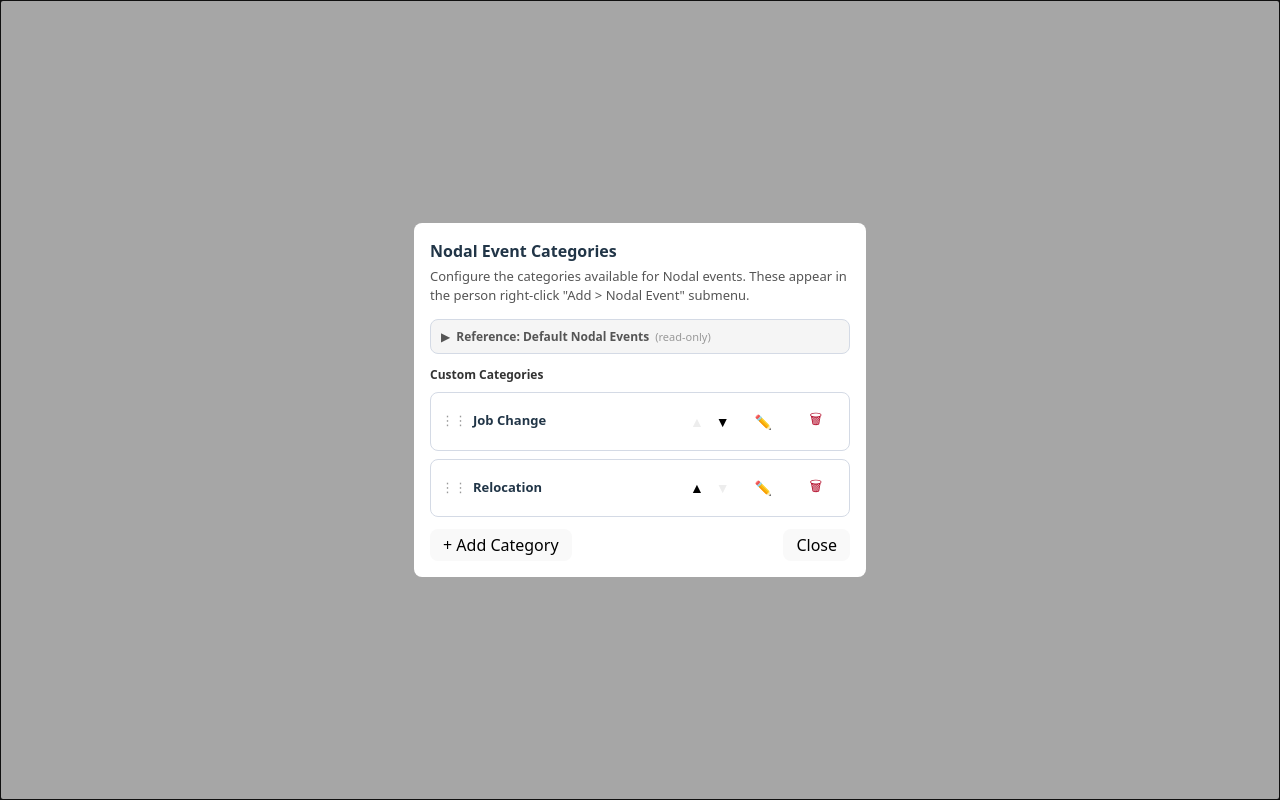
Test: NodalCategorySettingsModal — names (settings-07, settings-08) › the message clears when the name is edited
This screenshot has width=1280, height=800.
Click the button "+ Add Category" at x=501, y=545, box [430,529,572,561]
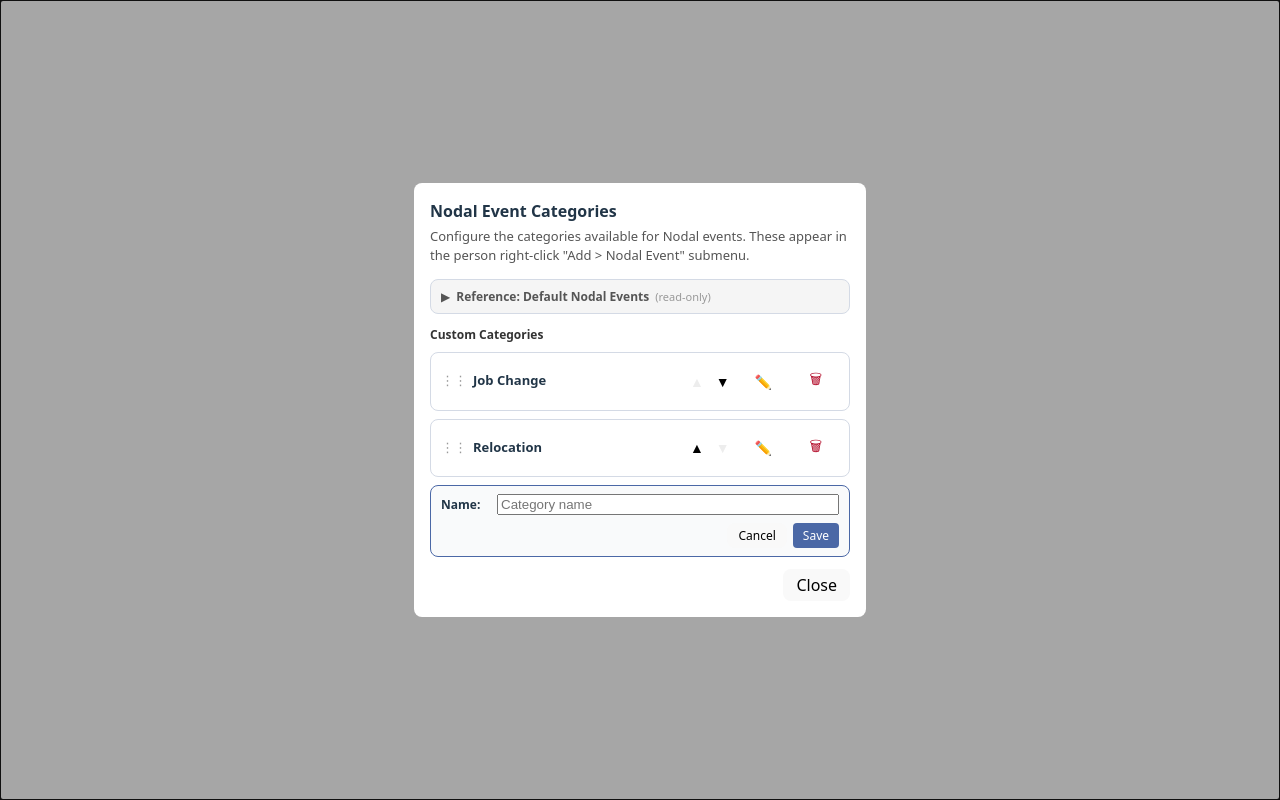
Type "Stress" into the field labelled "Category name" at x=668, y=505, box [497,494,839,515]
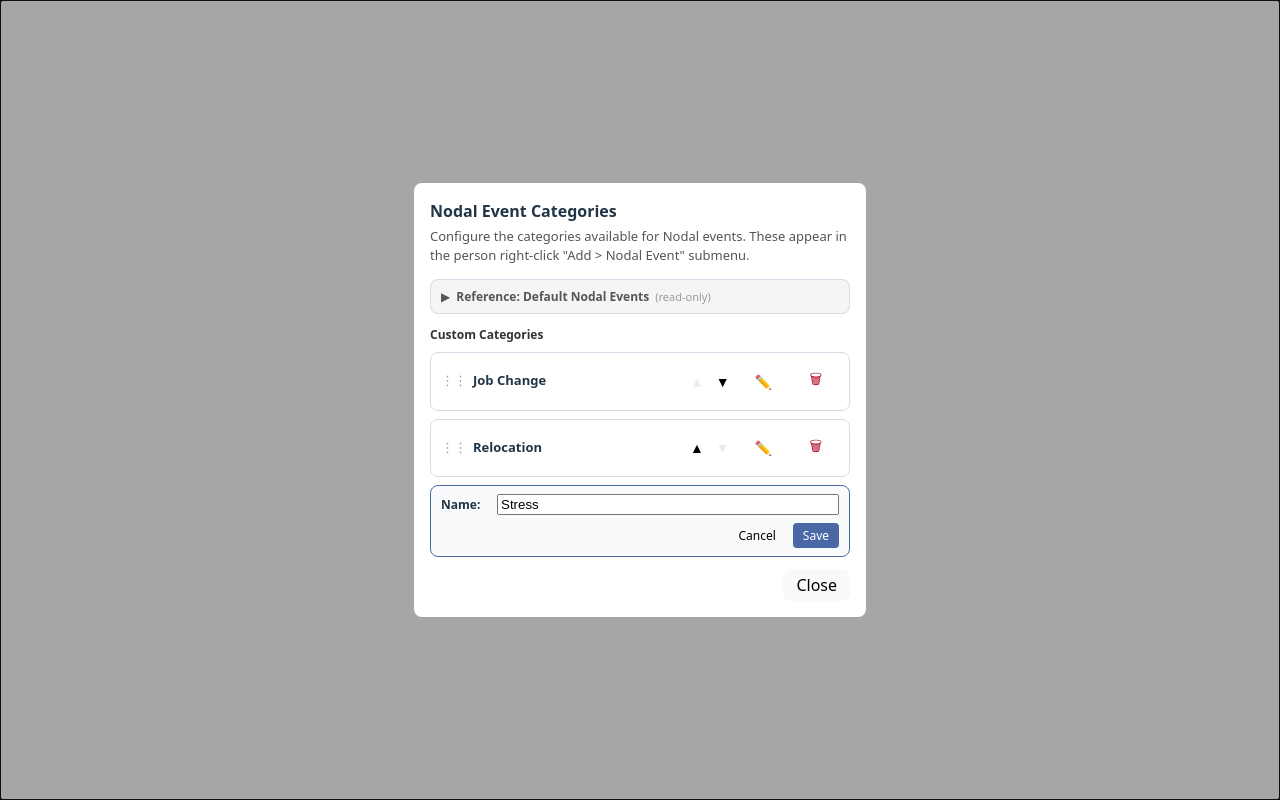
Click the button "Save" at x=816, y=536, box [793,523,839,548]
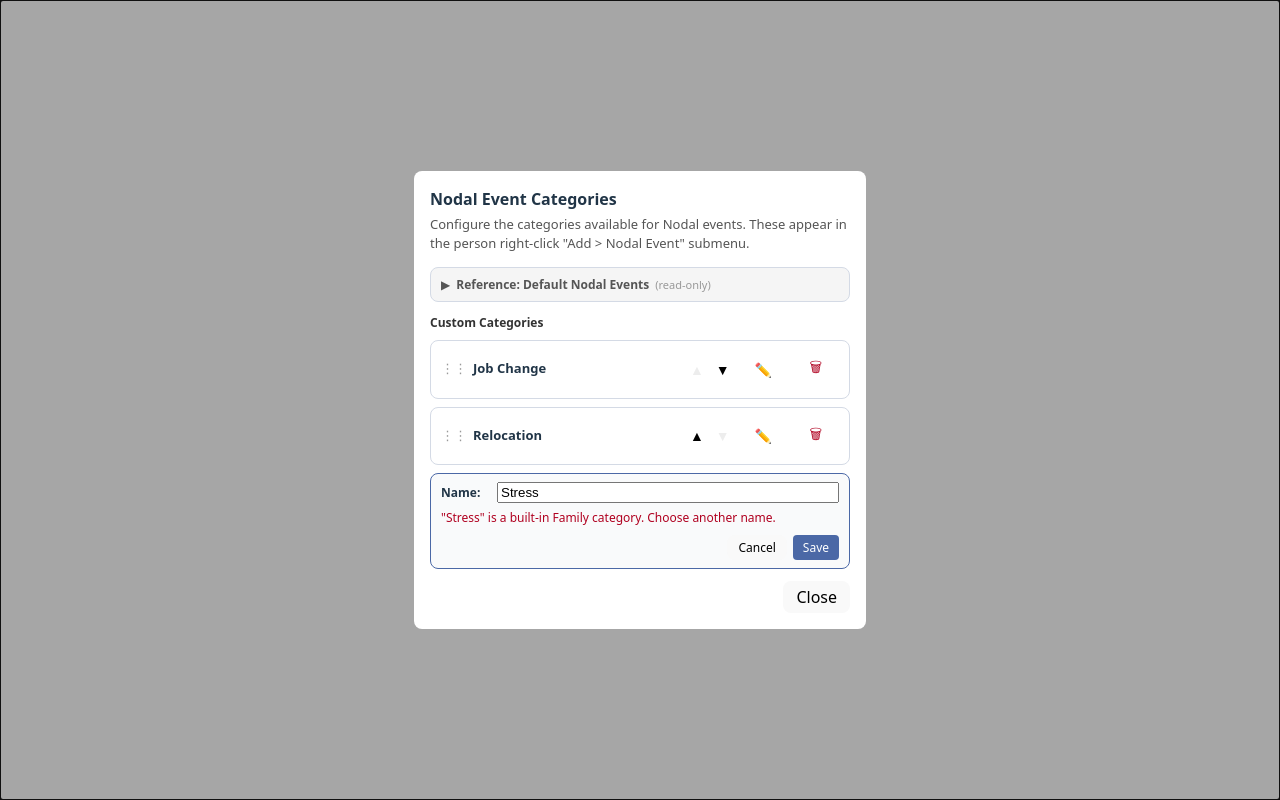
Replace the text in the field named "Category name" with "Stress at work" at x=668, y=493, box [497,482,839,503]
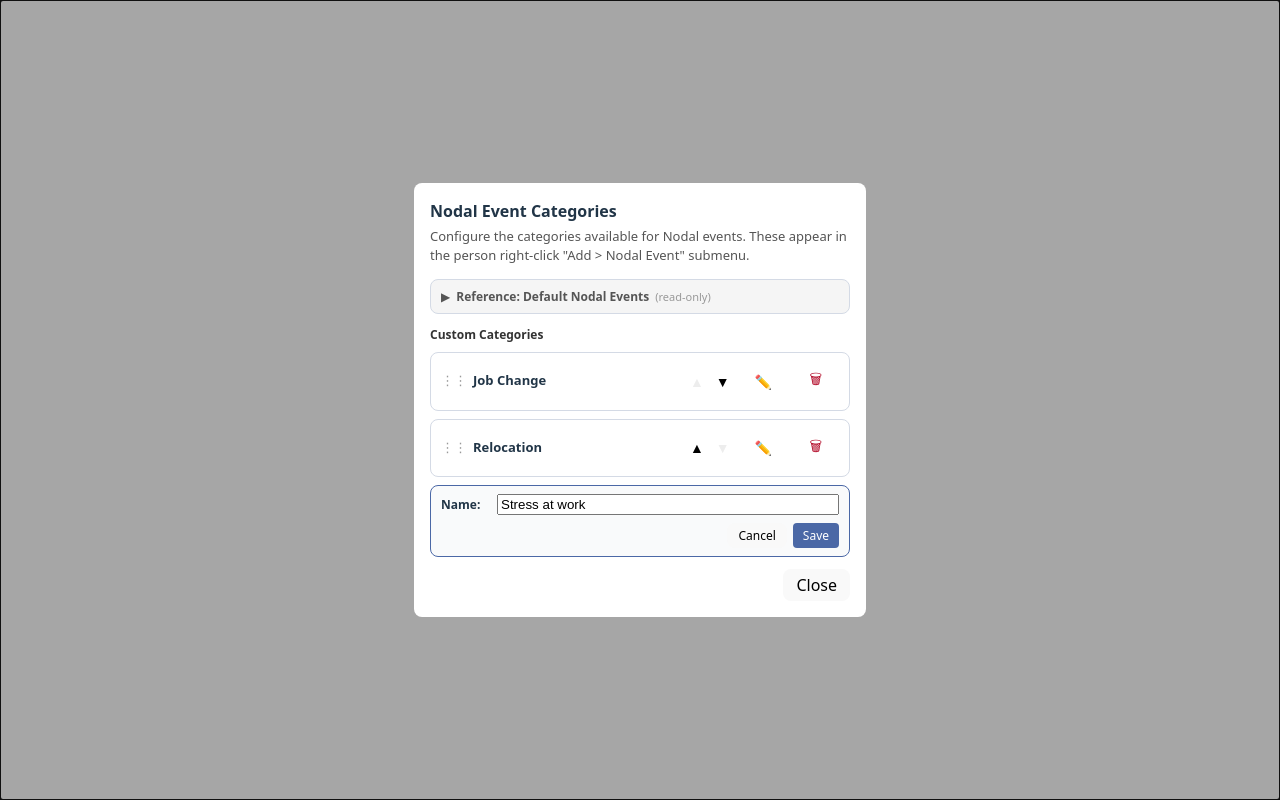
expect the message "\"Stress\" is a built-in Family category. Choose another name." is gone: met
